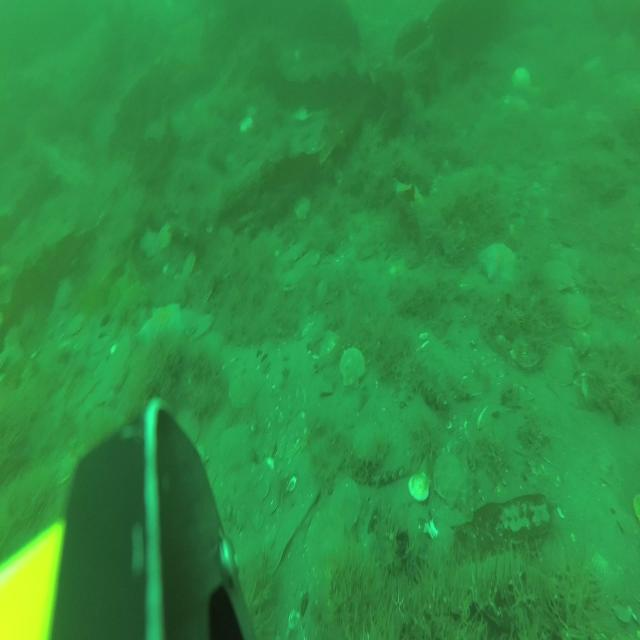holothurian: (396, 370, 425, 406)
scallop: (306, 507, 346, 583), (433, 450, 465, 505), (331, 478, 361, 535), (546, 342, 579, 387), (225, 374, 262, 414), (510, 329, 542, 375), (172, 403, 204, 449), (274, 422, 306, 463), (558, 290, 590, 330), (98, 356, 129, 395), (339, 345, 366, 389), (545, 258, 576, 292), (314, 276, 342, 310), (314, 326, 340, 361), (190, 308, 214, 344), (407, 468, 431, 502), (139, 230, 162, 260), (65, 311, 88, 338), (510, 65, 532, 92), (278, 270, 302, 294), (294, 193, 311, 223), (182, 248, 197, 280), (158, 220, 174, 249), (285, 240, 306, 262)
starfish: (136, 297, 185, 353), (476, 235, 522, 288)
